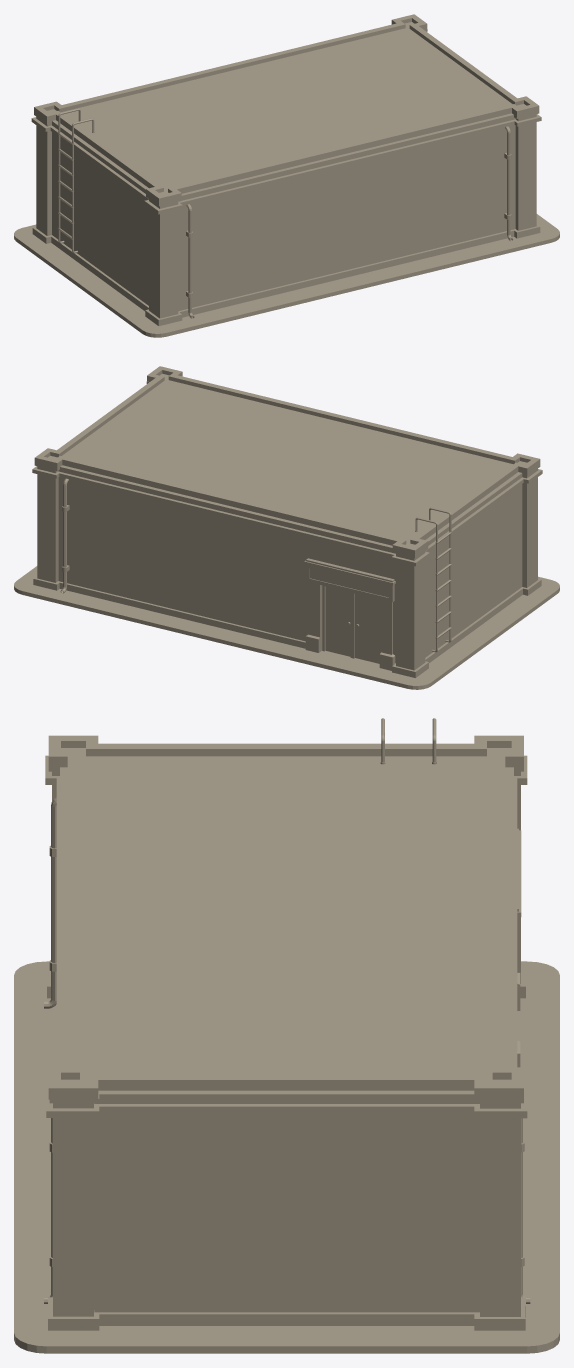
The model's file is Large_Building.fbx.
The picture shows the model from 3 angles, top to bottom: view 1: azimuth 30°, elevation 25°; view 2: azimuth 150°, elevation 25°; view 3: azimuth 270°, elevation 25°; orthographic projection. The views are drawn at different scales.
Parts seen in each view (by area): view 1: Large_Building_Roof, Large_Building_Front_Wall, Large_Building_Base, Large_Building_Side_Wall; view 2: Large_Building_Base, Large_Building_Roof, Door2, Door1; view 3: Large_Building_Roof, Large_Building_Side_Wall, Large_Building_Base, Large_Building_Front_Wall.
Part boxes in pixels (left/top/right/bottom): Large_Building_Roof: left=34, top=14, right=539, bottom=204; Large_Building_Front_Wall: left=178, top=113, right=516, bottom=318; Large_Building_Base: left=14, top=29, right=559, bottom=337; Large_Building_Side_Wall: left=513, top=112, right=541, bottom=238; Large_Building_Base: left=14, top=463, right=559, bottom=689; Large_Building_Roof: left=34, top=366, right=540, bottom=555; Door2: left=322, top=585, right=352, bottom=657; Door1: left=352, top=592, right=380, bottom=663; Large_Building_Roof: left=48, top=735, right=523, bottom=1099; Large_Building_Side_Wall: left=46, top=1089, right=479, bottom=1330; Large_Building_Base: left=14, top=718, right=559, bottom=1353; Large_Building_Front_Wall: left=44, top=767, right=67, bottom=1303.
Bounding box in the file's own units: 1300 × 424 × 780.
